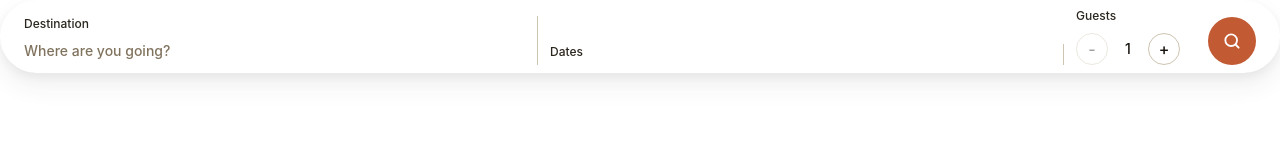
SearchBar › validation: missing dates shows error message
In the field with test id "destination-input": (272, 51) x1=24 y1=36 x2=521 y2=65, type "Paris"
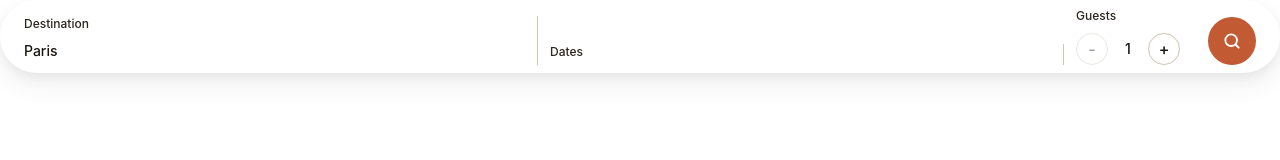
Submit the form, box x1=0 y1=0 x2=1279 y2=73
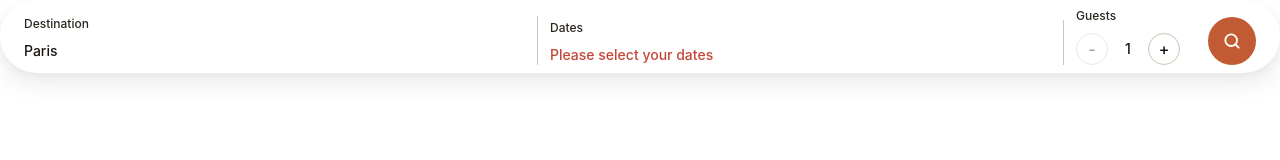
Expected: the text with test id "dates-error" reads "Please select your dates", x1=550 y1=46 x2=713 y2=62
